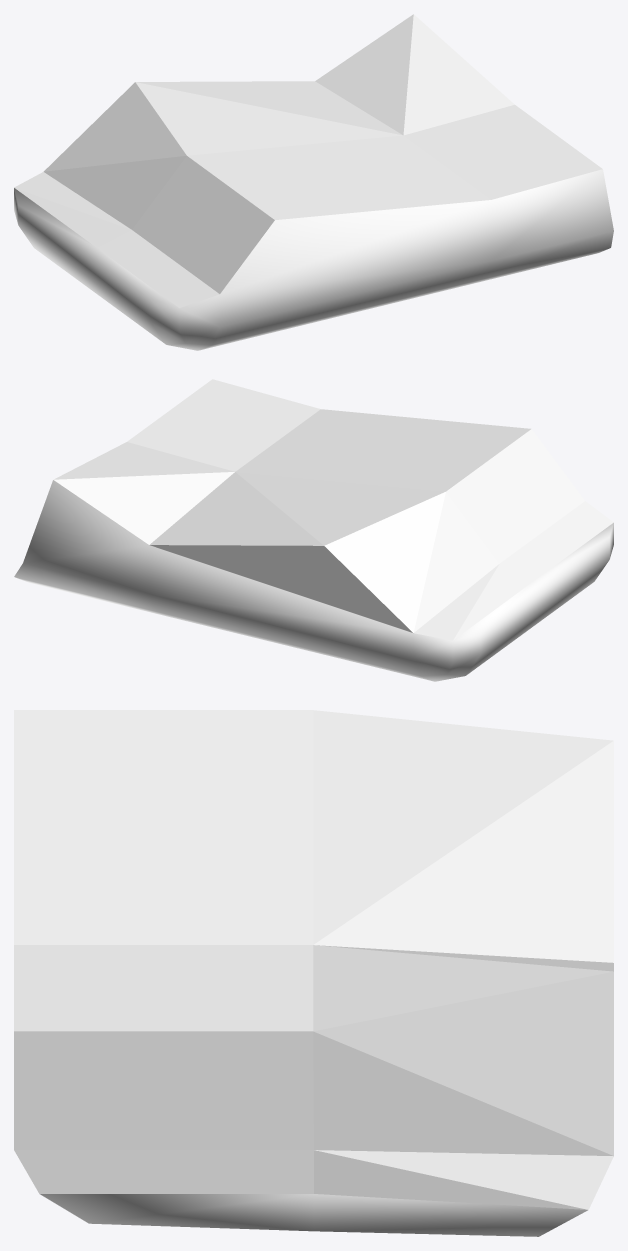
The model's file is WhiteBrickBreak3.obj.
3 views of the same model, one above another, from view 1: azimuth 30°, elevation 25°; view 2: azimuth 150°, elevation 25°; view 3: azimuth 270°, elevation 25° (orthographic). The views are drawn at different scales.
Visible parts, largest first — view 1: OriginalBrick.014_Cube.023; view 2: OriginalBrick.014_Cube.023; view 3: OriginalBrick.014_Cube.023.
Boxes of the visible parts, left/top/right/bottom form: OriginalBrick.014_Cube.023: left=14, top=14, right=613, bottom=350; OriginalBrick.014_Cube.023: left=14, top=379, right=613, bottom=681; OriginalBrick.014_Cube.023: left=14, top=710, right=613, bottom=1236.
Bounding box in the file's own units: 0.6567 × 0.18 × 0.4316.
Materials: 2 (2 with a texture image).
